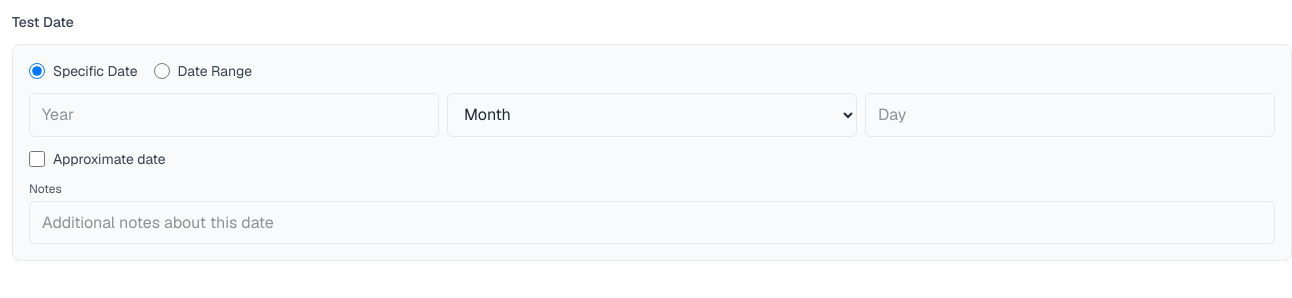
Scenario: Component Tests › PartialDateInput › should switch to range mode
Click the radio button labelled "Date Range" at (162, 71), box x1=154 y1=63 x2=170 y2=79
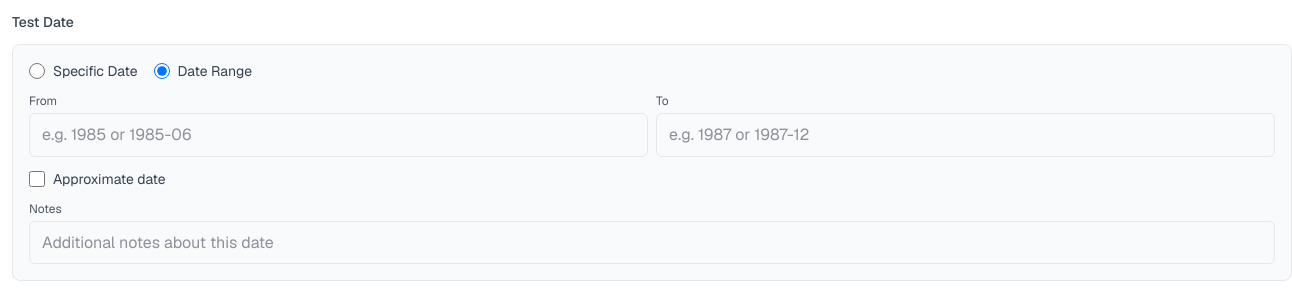
Expected: the text "From" is shown, x1=29 y1=93 x2=57 y2=109
Expected: the text "To" is shown, x1=656 y1=93 x2=668 y2=109
